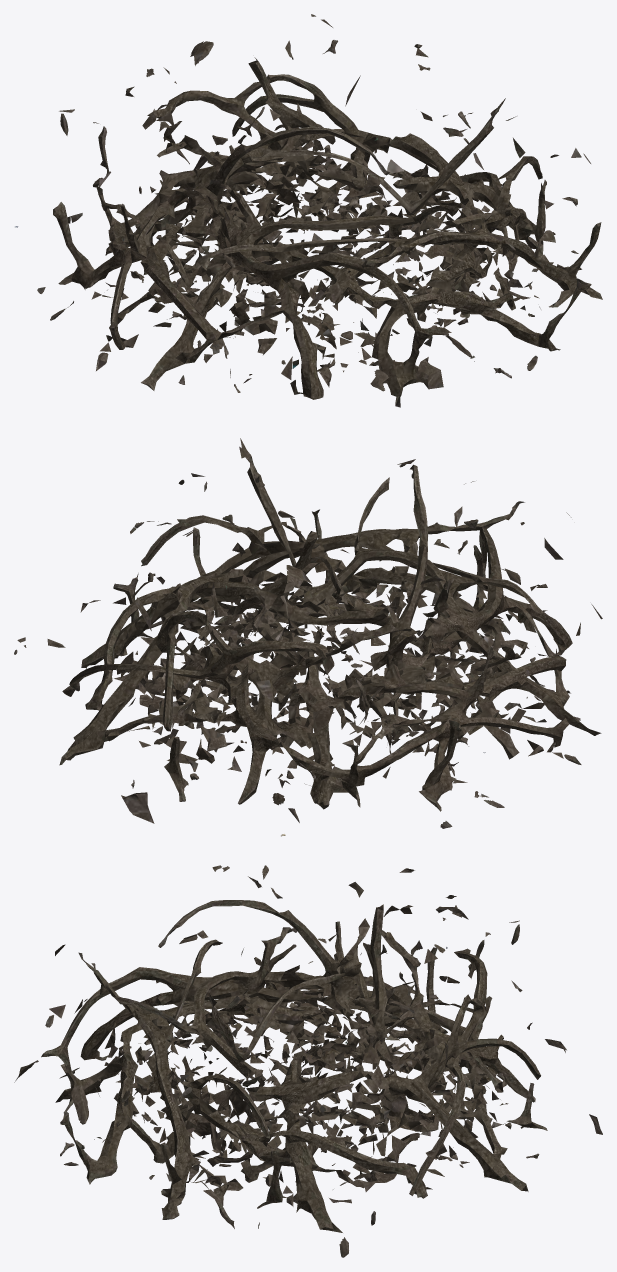
The picture shows the model from 3 angles, top to bottom: view 1: azimuth 30°, elevation 25°; view 2: azimuth 150°, elevation 25°; view 3: azimuth 270°, elevation 25°; orthographic projection. The views are drawn at different scales.
Visible parts, largest first — view 1: m10.glb; view 2: m10.glb; view 3: m10.glb.
Part boxes in pixels (<box>): m10.glb: <box>15,14,602,407</box>; m10.glb: <box>14,438,602,836</box>; m10.glb: <box>14,865,602,1257</box>.
Bounding box in the file's own units: 1.67 × 0.806 × 1.83.
Materials: 1 (1 with a texture image).
